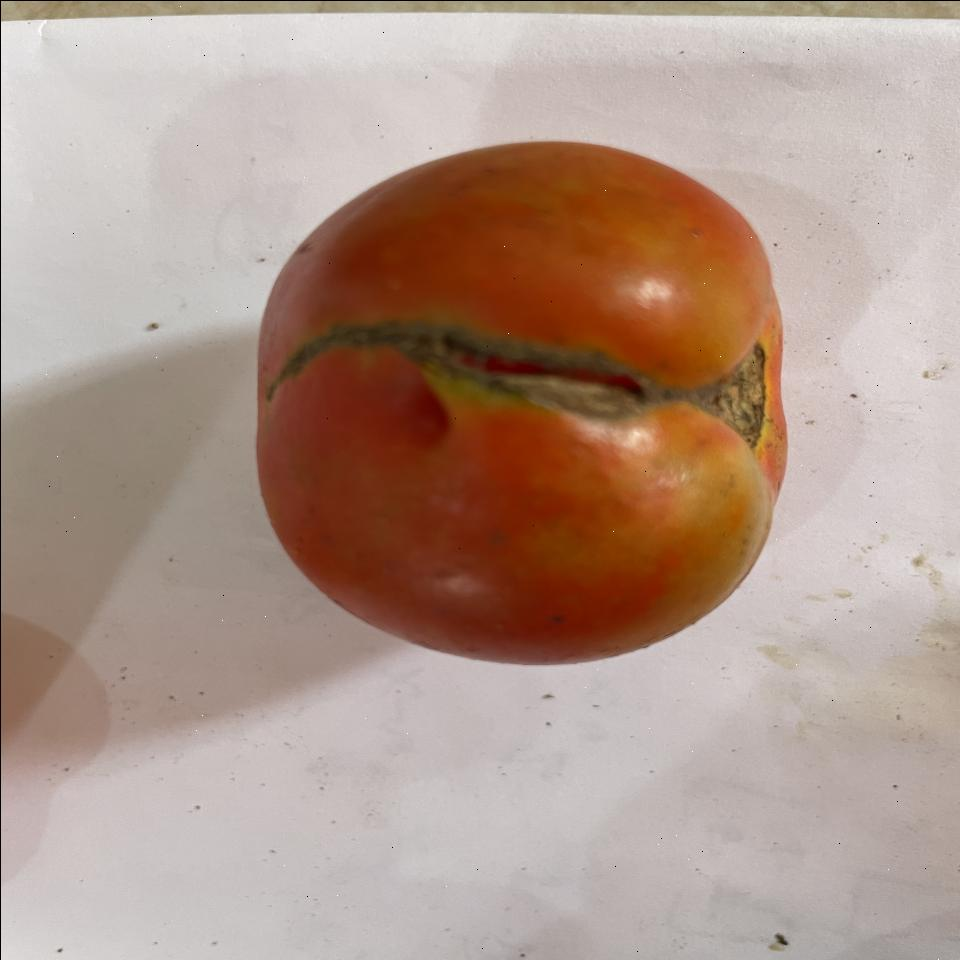Cracking: (264, 316, 709, 428)
